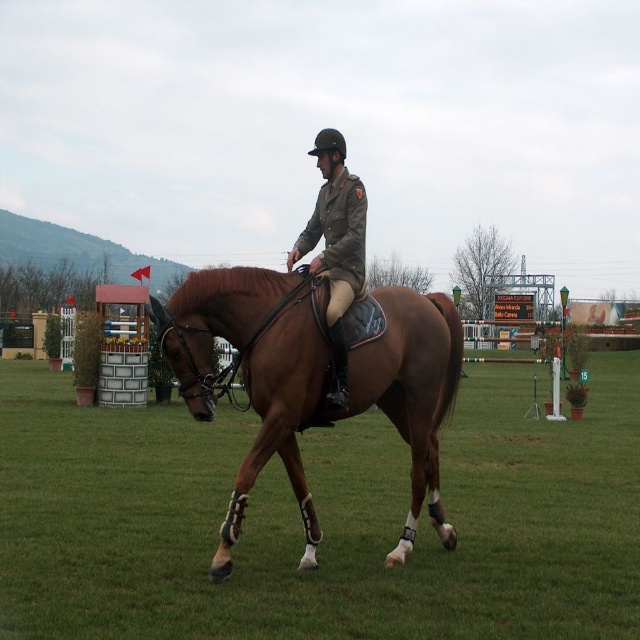Horse: (144, 265, 464, 584)
